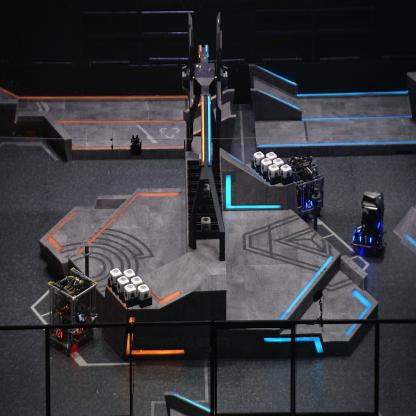car: (47, 266, 97, 353), (284, 155, 324, 222), (352, 190, 386, 254)
